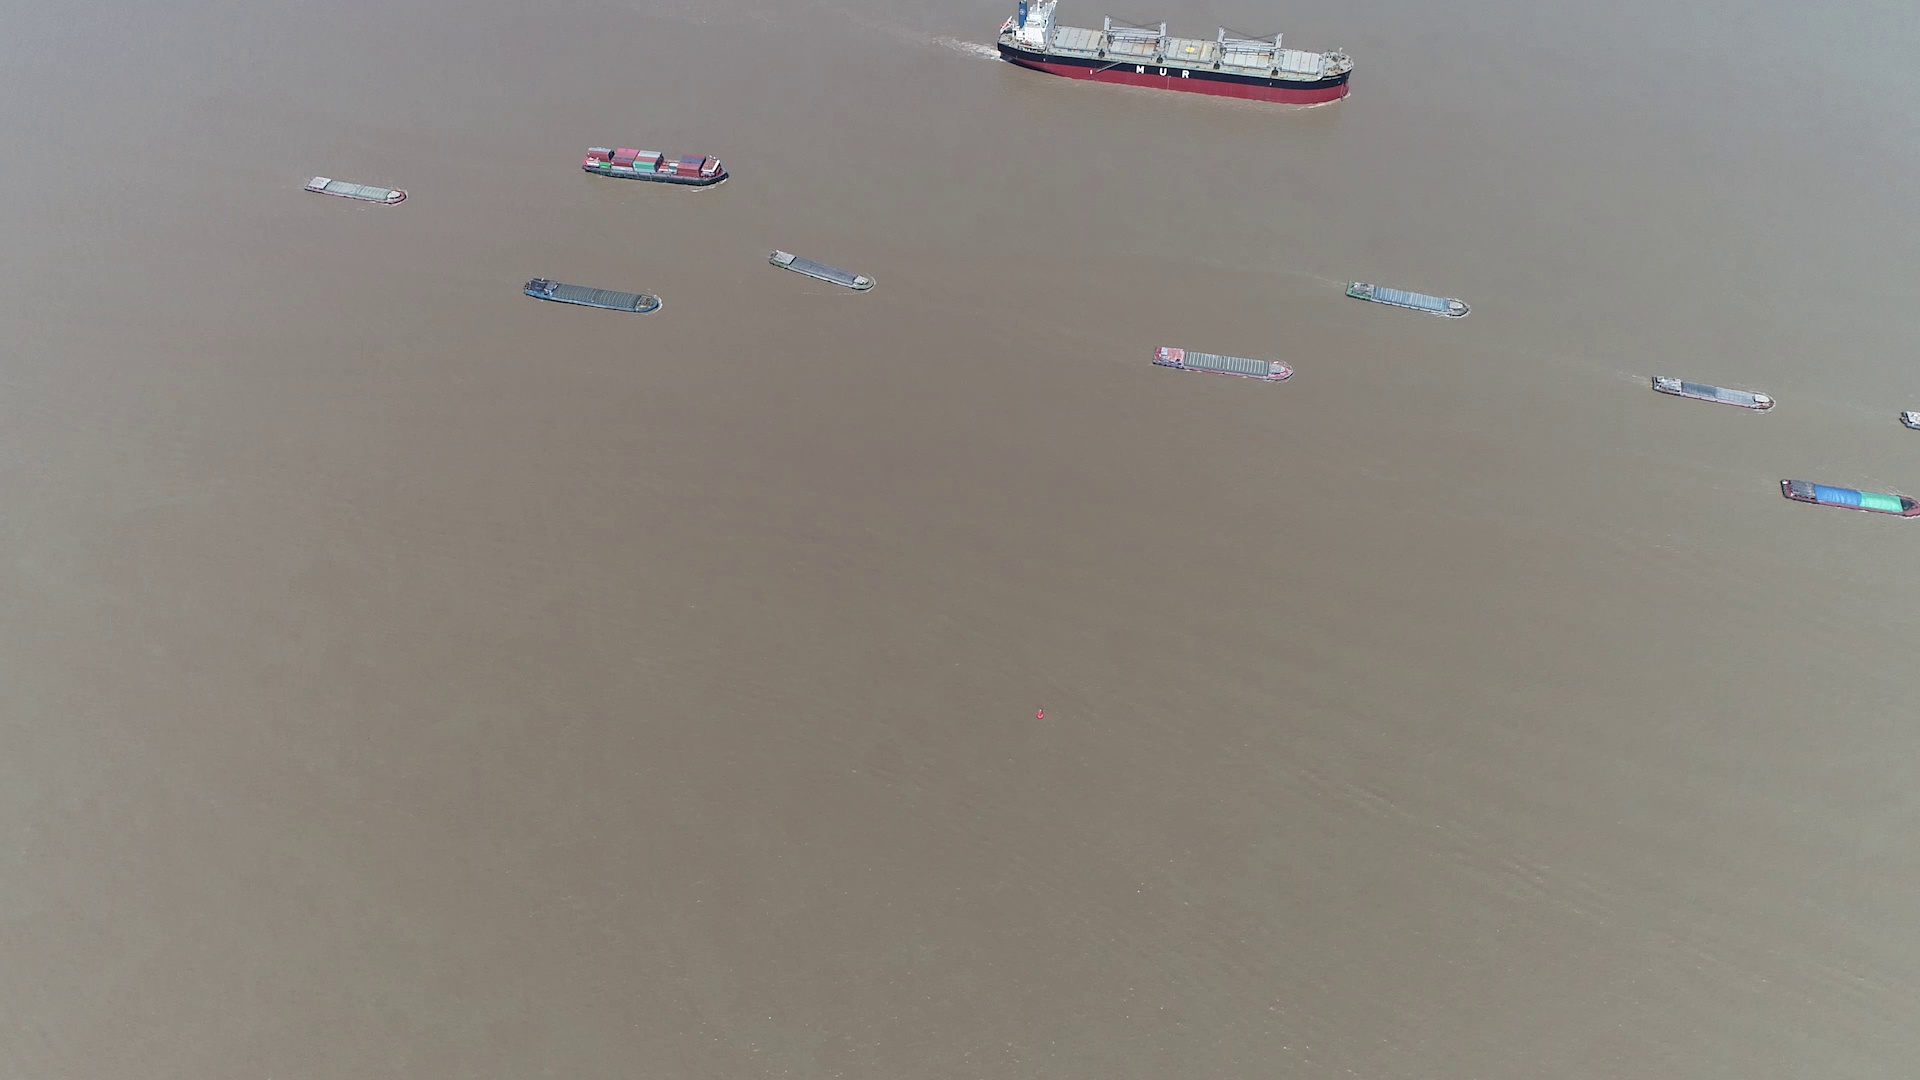ship: (996, 0, 1350, 105), (583, 146, 729, 187), (1780, 476, 1919, 518), (520, 280, 665, 316), (1346, 280, 1470, 319), (1154, 345, 1288, 381), (1648, 375, 1778, 411), (770, 251, 876, 295), (303, 175, 407, 206), (1898, 407, 1919, 433)
